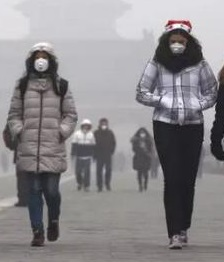person: (134, 15, 220, 251), (4, 40, 80, 248), (70, 115, 98, 193), (92, 115, 118, 194), (127, 126, 156, 194), (111, 152, 127, 171), (197, 146, 206, 179), (150, 154, 161, 177), (2, 150, 10, 173)
